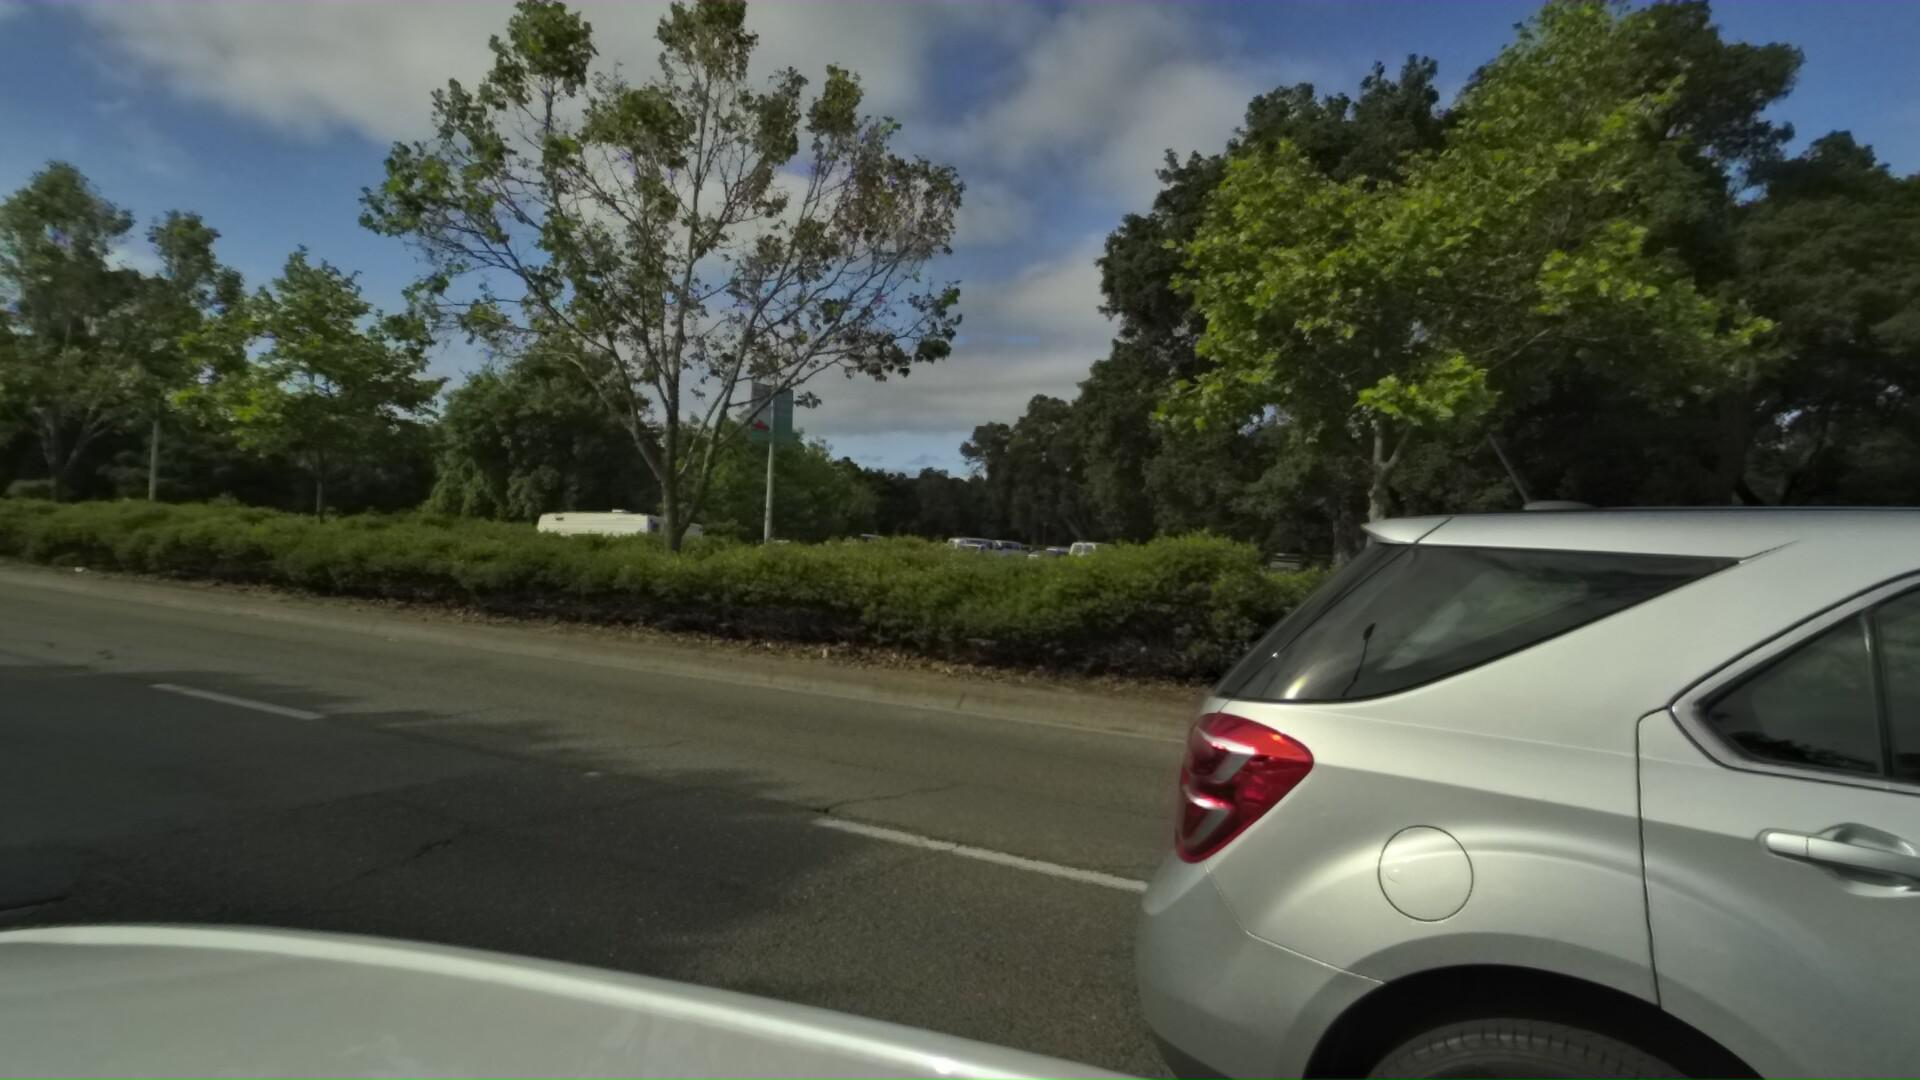other_vehicle: (498, 502, 707, 587)
